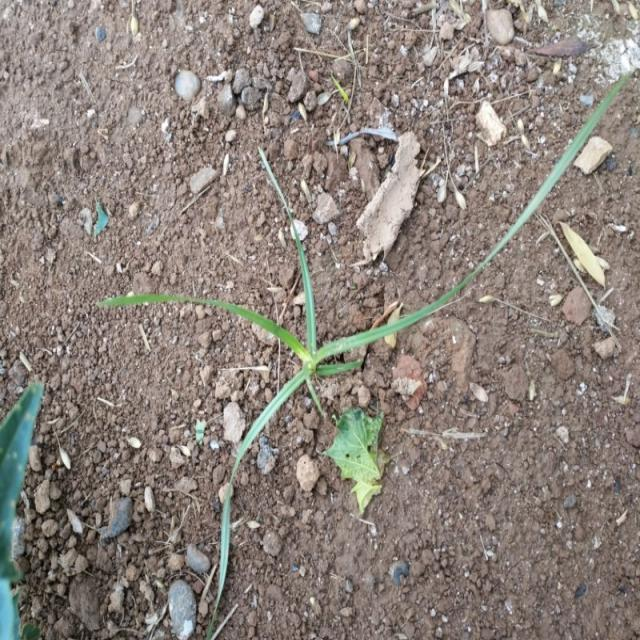sedge: (85, 177, 561, 446)
